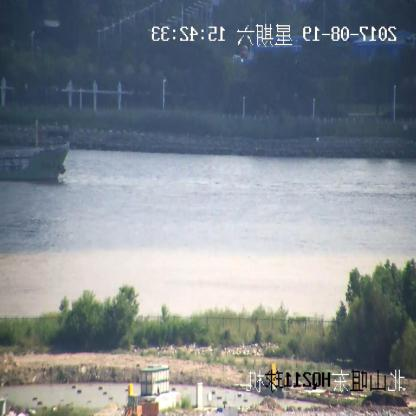Bulk Carrier: (1, 143, 68, 186)
